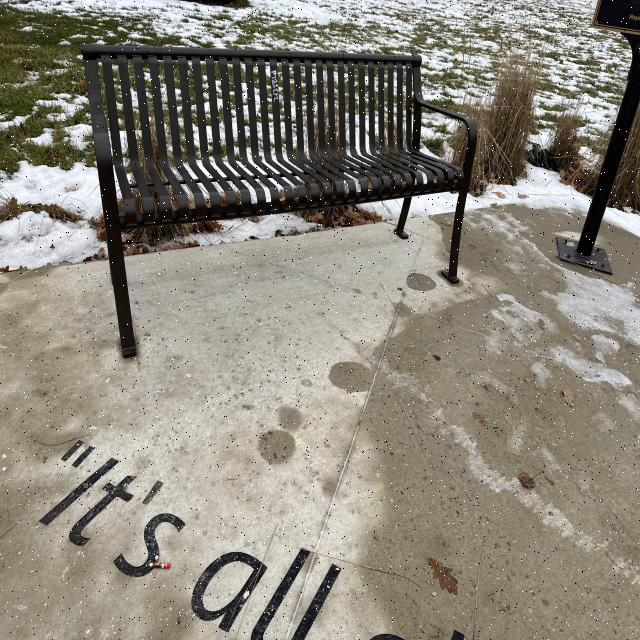Bench: (83, 35, 463, 321)
